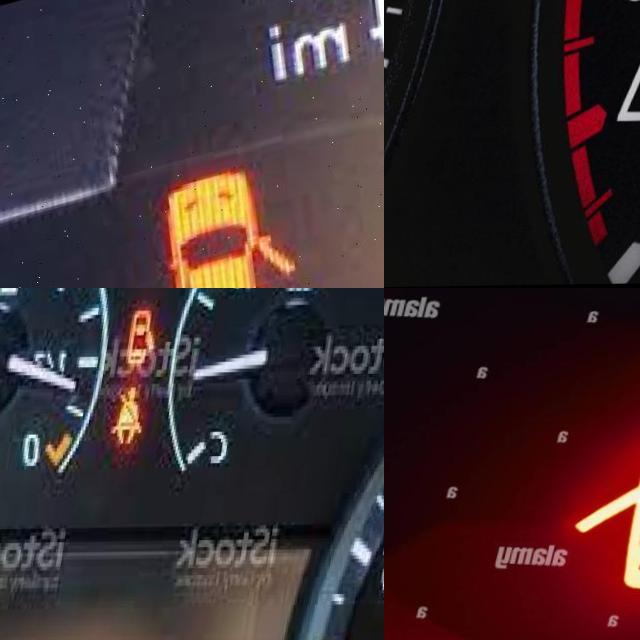Seat Belt: (119, 382, 158, 451)
